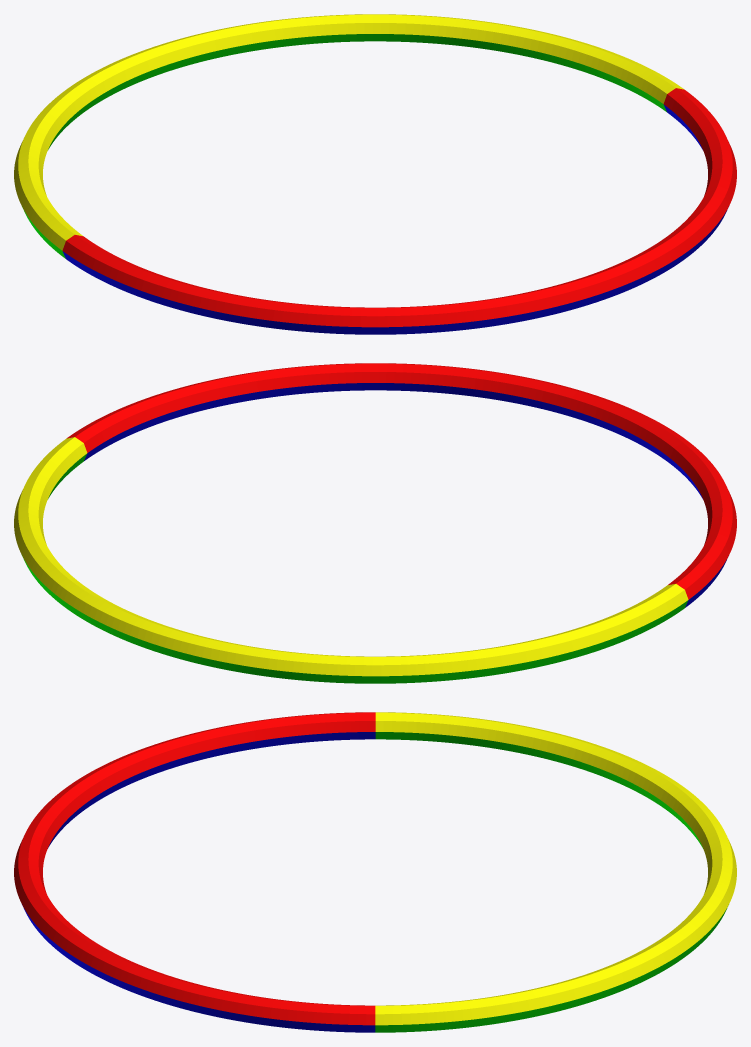
3 renders of one model, top to bottom at view 1: azimuth 30°, elevation 25°; view 2: azimuth 150°, elevation 25°; view 3: azimuth 270°, elevation 25°, orthographic.
Parts seen in each view (by area): view 1: Torus; view 2: Torus; view 3: Torus.
Part boxes in pixels (x1,y1,x2,y2): Torus: [14, 14, 736, 334]; Torus: [14, 363, 736, 683]; Torus: [14, 712, 736, 1032].
Bounding box in the file's own units: 2 × 0.08 × 2.
1 material, 1 textured.
